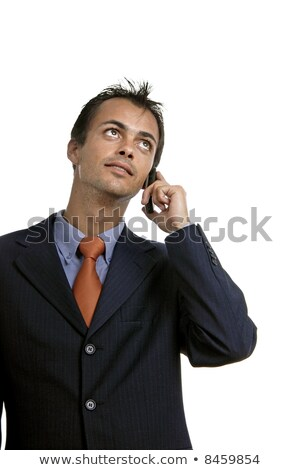phone: (140, 156, 176, 221)
talk: (87, 121, 188, 236)
